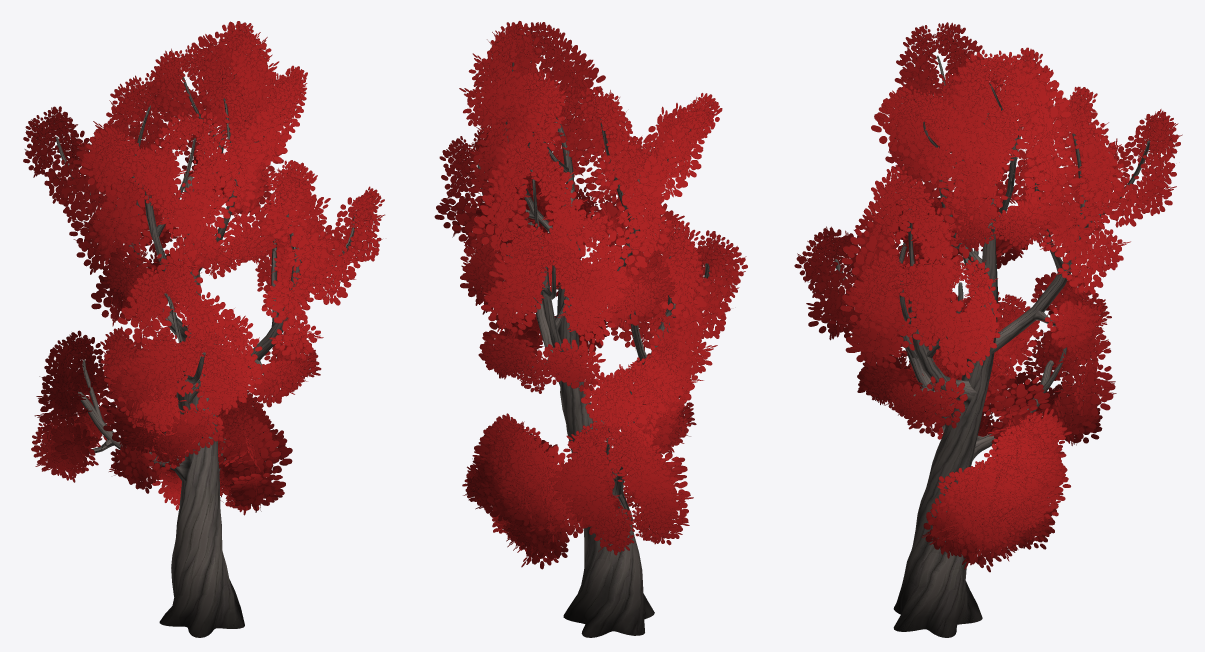
The model's file is nat_twistedtree_4.glb.
3 views of the same model, side by side, from view 1: azimuth 30°, elevation 25°; view 2: azimuth 150°, elevation 25°; view 3: azimuth 270°, elevation 25° (orthographic). The views are drawn at different scales.
Visible parts, largest first — view 1: tree041_1, tree041; view 2: tree041_1, tree041; view 3: tree041_1, tree041.
Boxes of the visible parts, bbox=[...] form: tree041_1: bbox=[23, 21, 384, 515]; tree041: bbox=[56, 74, 356, 637]; tree041_1: bbox=[434, 21, 747, 569]; tree041: bbox=[477, 61, 709, 637]; tree041_1: bbox=[794, 22, 1182, 572]; tree041: bbox=[834, 55, 1149, 637].
Size of the model in its own units: 10.38 by 18.74 by 11.29.
Materials: 2 (2 with a texture image).
